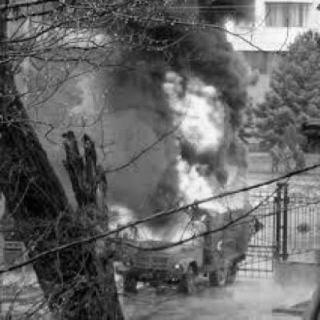Fire: (122, 69, 270, 293)
Smoke: (99, 1, 263, 64), (97, 70, 171, 208)
